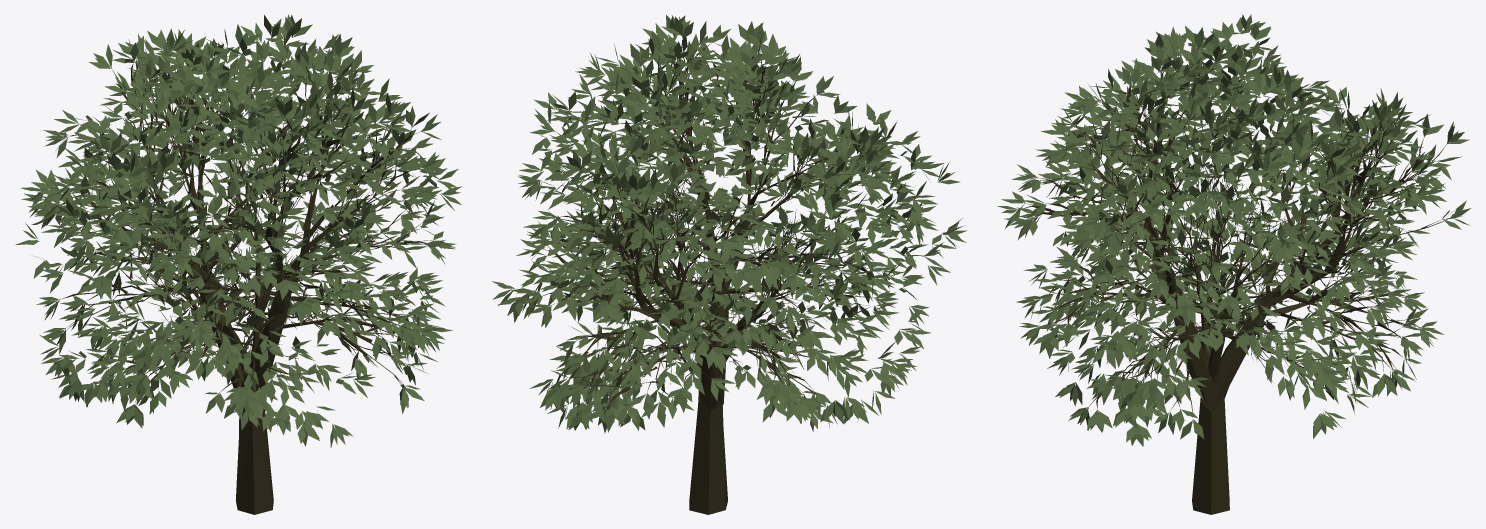
The model's file is Tree1_lod1.fbx.
3 views of the same model, side by side, from view 1: azimuth 30°, elevation 25°; view 2: azimuth 150°, elevation 25°; view 3: azimuth 270°, elevation 25° (orthographic).
Parts seen in each view (by area): view 1: leaves.001, leaves, leaves.002, tree, tree.001; view 2: leaves.001, leaves, leaves.002, tree, tree.001; view 3: leaves, leaves.001, tree, leaves.002, tree.001.
Part boxes in pixels (bbox=[...]): leaves.001: bbox=[15, 14, 461, 447]; leaves: bbox=[21, 28, 456, 430]; leaves.002: bbox=[31, 38, 382, 306]; tree: bbox=[60, 51, 432, 514]; tree.001: bbox=[134, 152, 332, 385]; leaves.001: bbox=[492, 39, 967, 430]; leaves: bbox=[516, 15, 896, 432]; leaves.002: bbox=[603, 43, 859, 344]; tree: bbox=[538, 40, 873, 514]; tree.001: bbox=[625, 171, 830, 384]; leaves: bbox=[997, 58, 1471, 446]; leaves.001: bbox=[1016, 26, 1398, 438]; tree: bbox=[1021, 85, 1447, 514]; leaves.002: bbox=[1036, 14, 1363, 295]; tree.001: bbox=[1128, 165, 1304, 386].
Size of the model in its own units: 975 by 1001 by 971.
